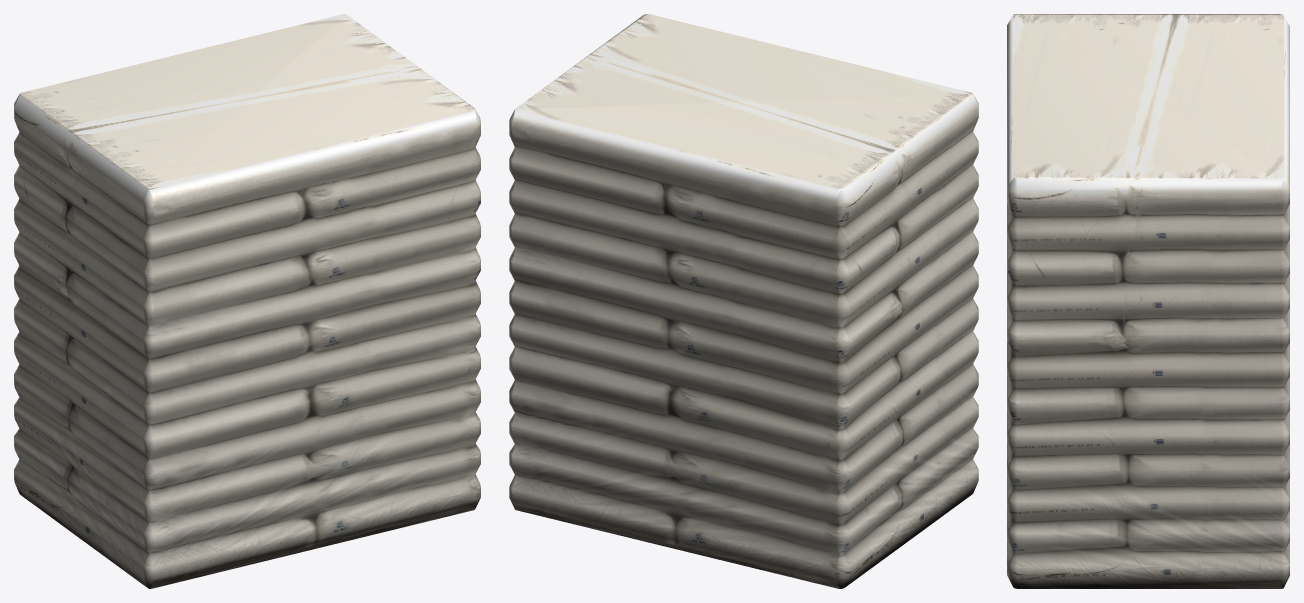
The model's file is concretePallet.FBX.
3 views of the same model, side by side, from view 1: azimuth 30°, elevation 25°; view 2: azimuth 150°, elevation 25°; view 3: azimuth 270°, elevation 25° (orthographic). The views are drawn at different scales.
Visible parts, largest first — view 1: concretePallet; view 2: concretePallet; view 3: concretePallet.
Part boxes in pixels (x1,y1,x2,y2): concretePallet: (14,14,480,588); concretePallet: (509,14,978,588); concretePallet: (1007,14,1289,588).
Size of the model in its own units: 135 by 152 by 95.19.
